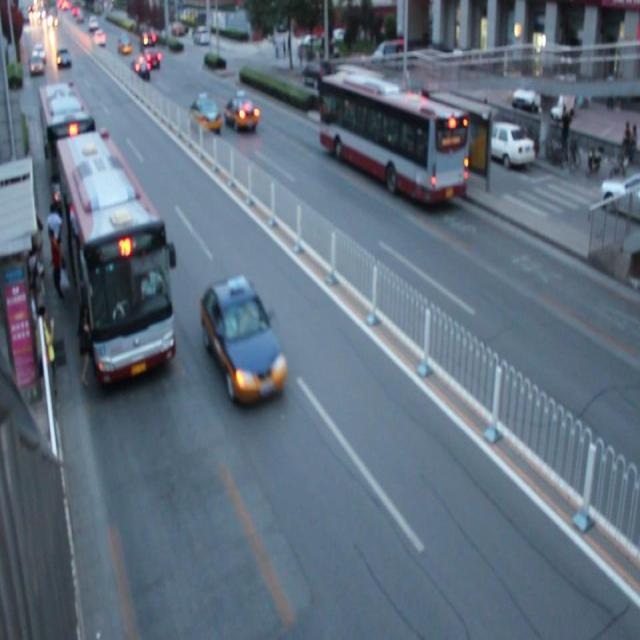car: (201, 277, 286, 401), (186, 95, 220, 134), (224, 92, 256, 133)
van: (56, 135, 175, 383), (320, 75, 466, 204), (38, 80, 96, 204)
